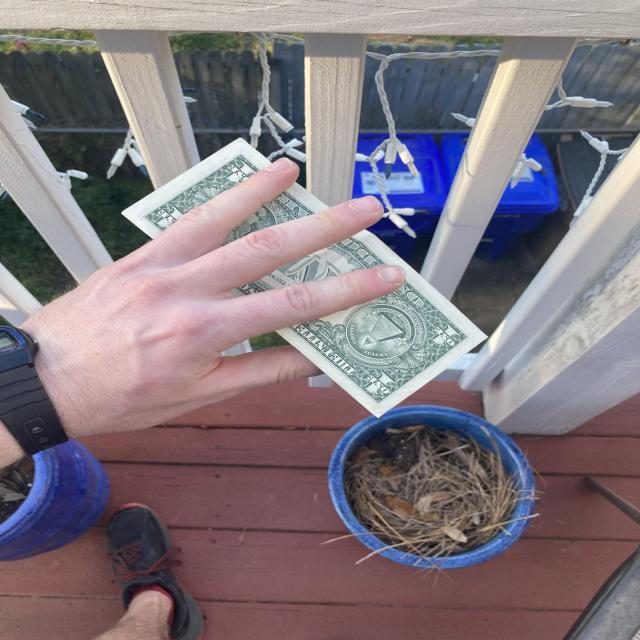one: (121, 138, 489, 419)
